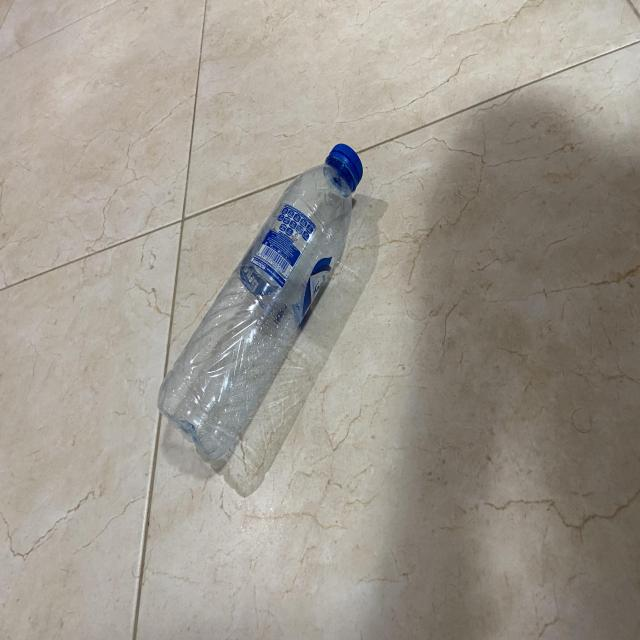plastic: (158, 144, 364, 473)
